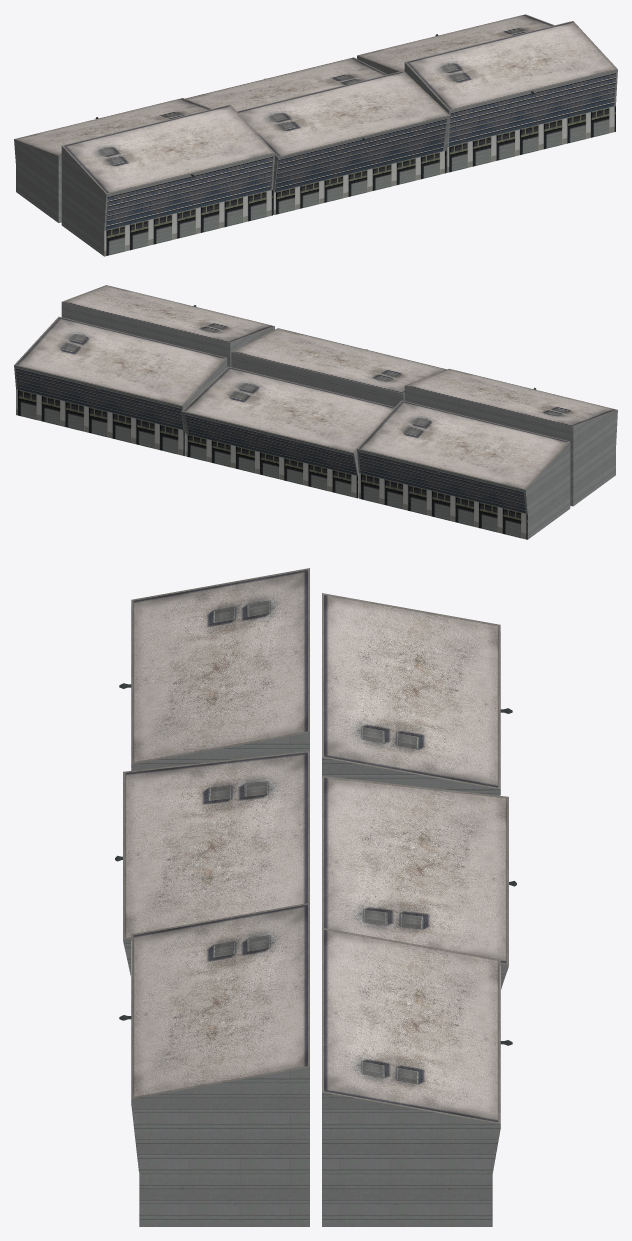
Rendered from Buildings04.fbx.
3 views of the same model, one above another, from view 1: azimuth 30°, elevation 25°; view 2: azimuth 150°, elevation 25°; view 3: azimuth 270°, elevation 25° (orthographic). The views are drawn at different scales.
Parts seen in each view (by area): view 1: Empty_Mesh; view 2: Empty_Mesh; view 3: Empty_Mesh.
Part boxes in pixels (x1,y1,x2,y2): Empty_Mesh: [14, 14, 617, 256]; Empty_Mesh: [14, 285, 617, 539]; Empty_Mesh: [115, 568, 516, 1226].
Size of the model in its own units: 94.09 by 14.03 by 32.
